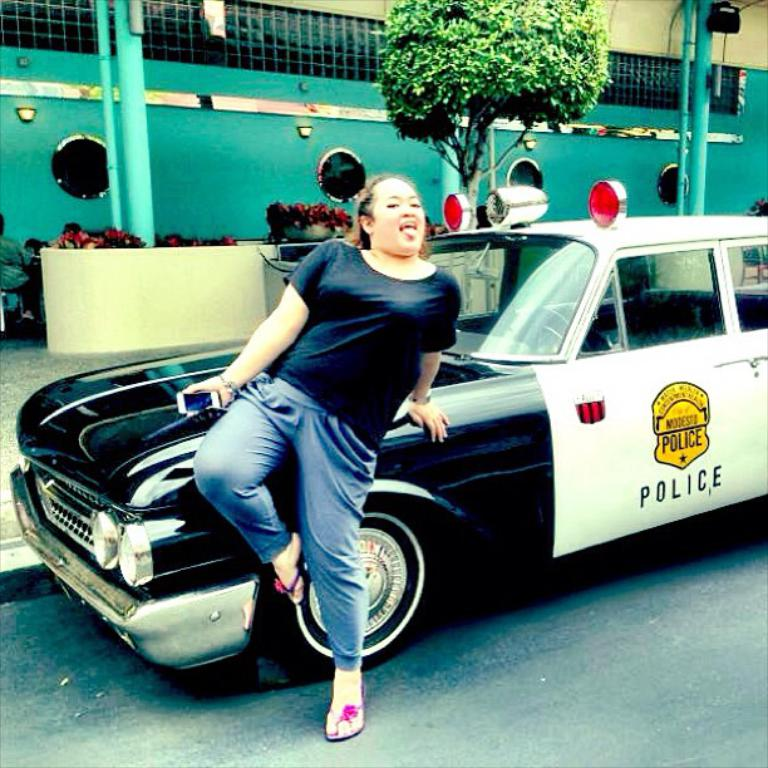Car: (10, 174, 766, 686)
